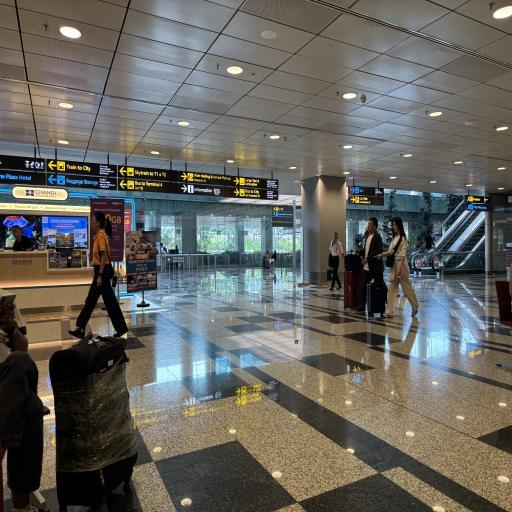person_left: (62, 182, 142, 344)
person_with_luggage_left: (366, 211, 426, 333), (335, 212, 384, 316)
